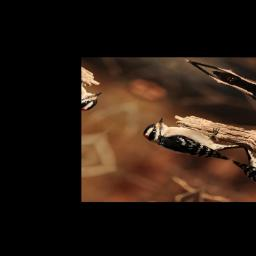Woodpecker: (135, 104, 250, 171)
